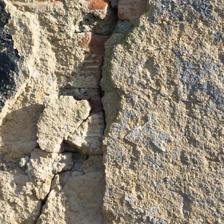Crack: (19, 0, 90, 129), (0, 39, 100, 109)
